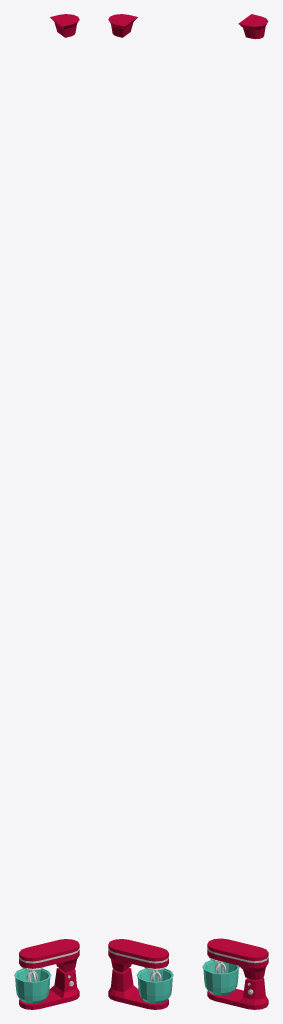
File: mixer.fbx
3 views of the same model, side by side, from view 1: azimuth 30°, elevation 25°; view 2: azimuth 150°, elevation 25°; view 3: azimuth 330°, elevation 25° (orthographic).
Parts seen in each view (by area): view 1: Cube.003, Cylinder.001, BOWL, Cube.004; view 2: Cube.003, Cylinder.001, BOWL, Cube.004; view 3: Cube.003, Cylinder.001, BOWL, Cube.004.
Part boxes in pixels (x1,y1,x2,y2): Cube.003: (19,939,79,972); Cylinder.001: (19,968,79,1009); BOWL: (14,968,51,1003); Cube.004: (50,14,79,37); Cube.003: (108,939,168,972); Cylinder.001: (108,968,168,1009); BOWL: (136,968,173,1003); Cube.004: (108,14,137,37); Cube.003: (207,938,268,979); Cylinder.001: (207,977,268,1009); BOWL: (202,960,239,995); Cube.004: (238,14,268,39).
Bounding box in the file's own units: 619 × 9395 × 323.
